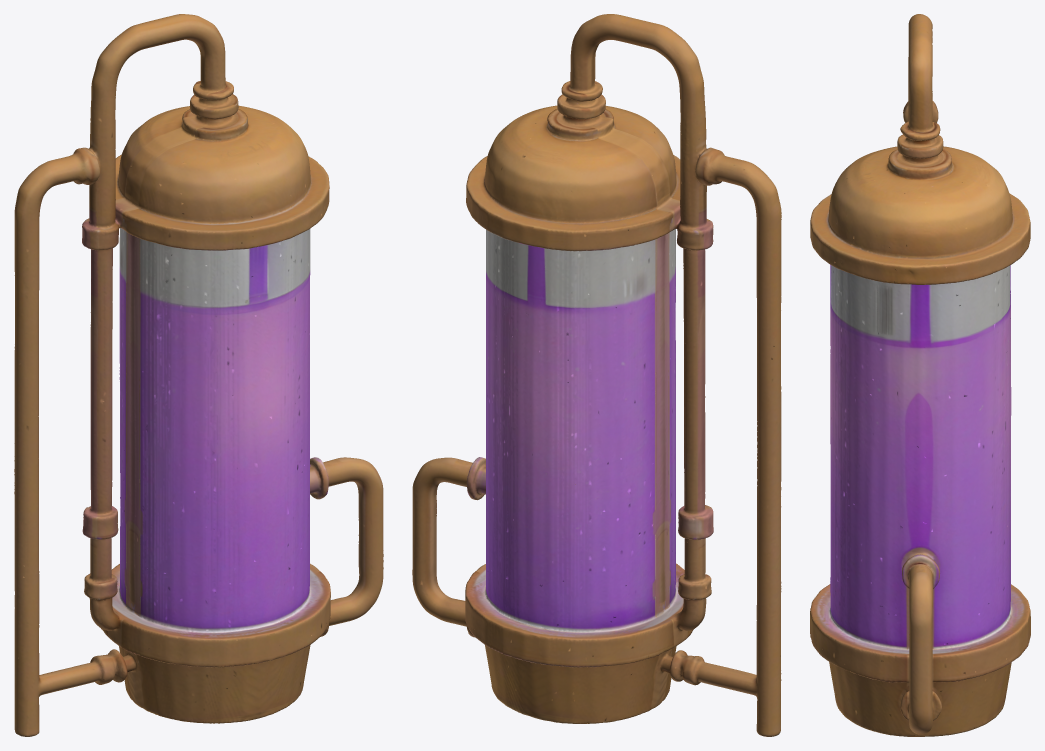
File: Purple_Elixir_Cylinder.glb
The picture shows the model from 3 angles, left to right: view 1: azimuth 30°, elevation 25°; view 2: azimuth 150°, elevation 25°; view 3: azimuth 270°, elevation 25°; orthographic projection. The views are drawn at different scales.
Bounding box in the file's own units: 1.13 × 2 × 0.6158.
1 material, 1 textured.
